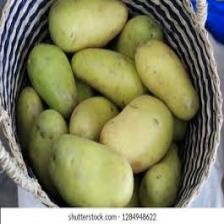Defected potato: (45, 134, 137, 211), (100, 92, 174, 176), (134, 39, 201, 121), (71, 46, 150, 113), (45, 0, 127, 52), (25, 44, 76, 111), (27, 108, 71, 184), (118, 12, 163, 66), (66, 98, 117, 142), (13, 86, 47, 139)
